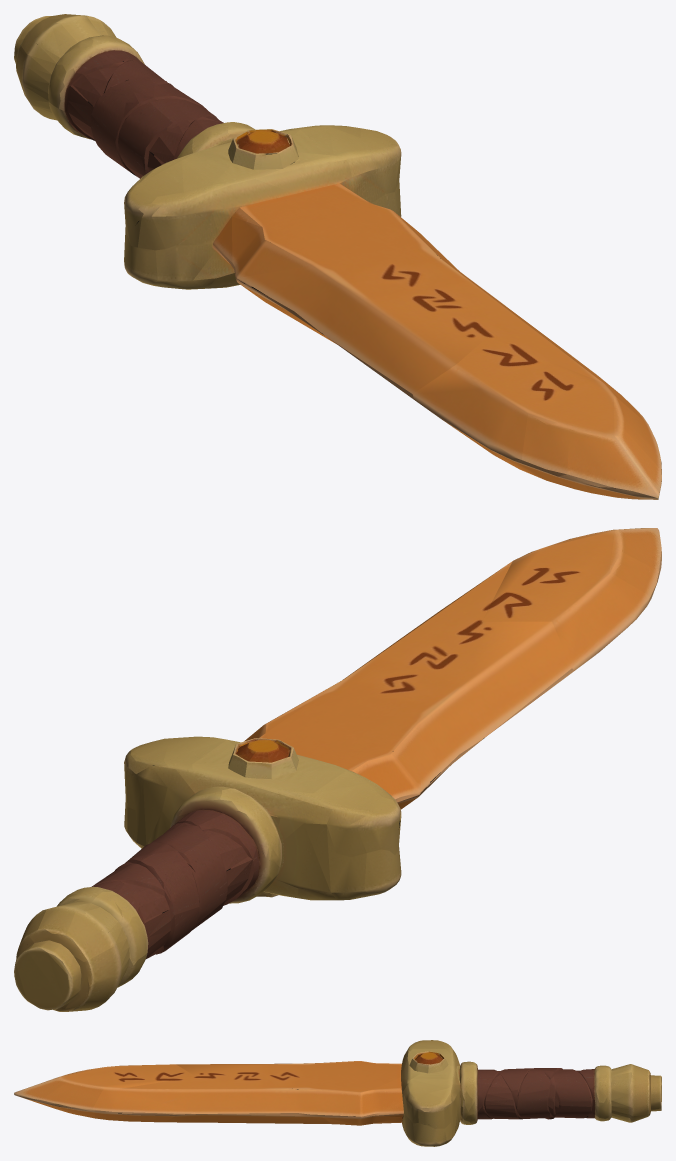
3 views of the same model, one above another, from view 1: azimuth 30°, elevation 25°; view 2: azimuth 150°, elevation 25°; view 3: azimuth 270°, elevation 25° (orthographic). The views are drawn at different scales.
Visible parts, largest first — view 1: db_g4; view 2: db_g4; view 3: db_g4.
Boxes of the visible parts, box(x1,y1,x2,y2) form: db_g4: box(14, 14, 661, 499); db_g4: box(14, 528, 661, 1011); db_g4: box(14, 1040, 661, 1146).
Size of the model in its own units: 53.86 by 27.67 by 215.
Materials: 1 (1 with a texture image).
